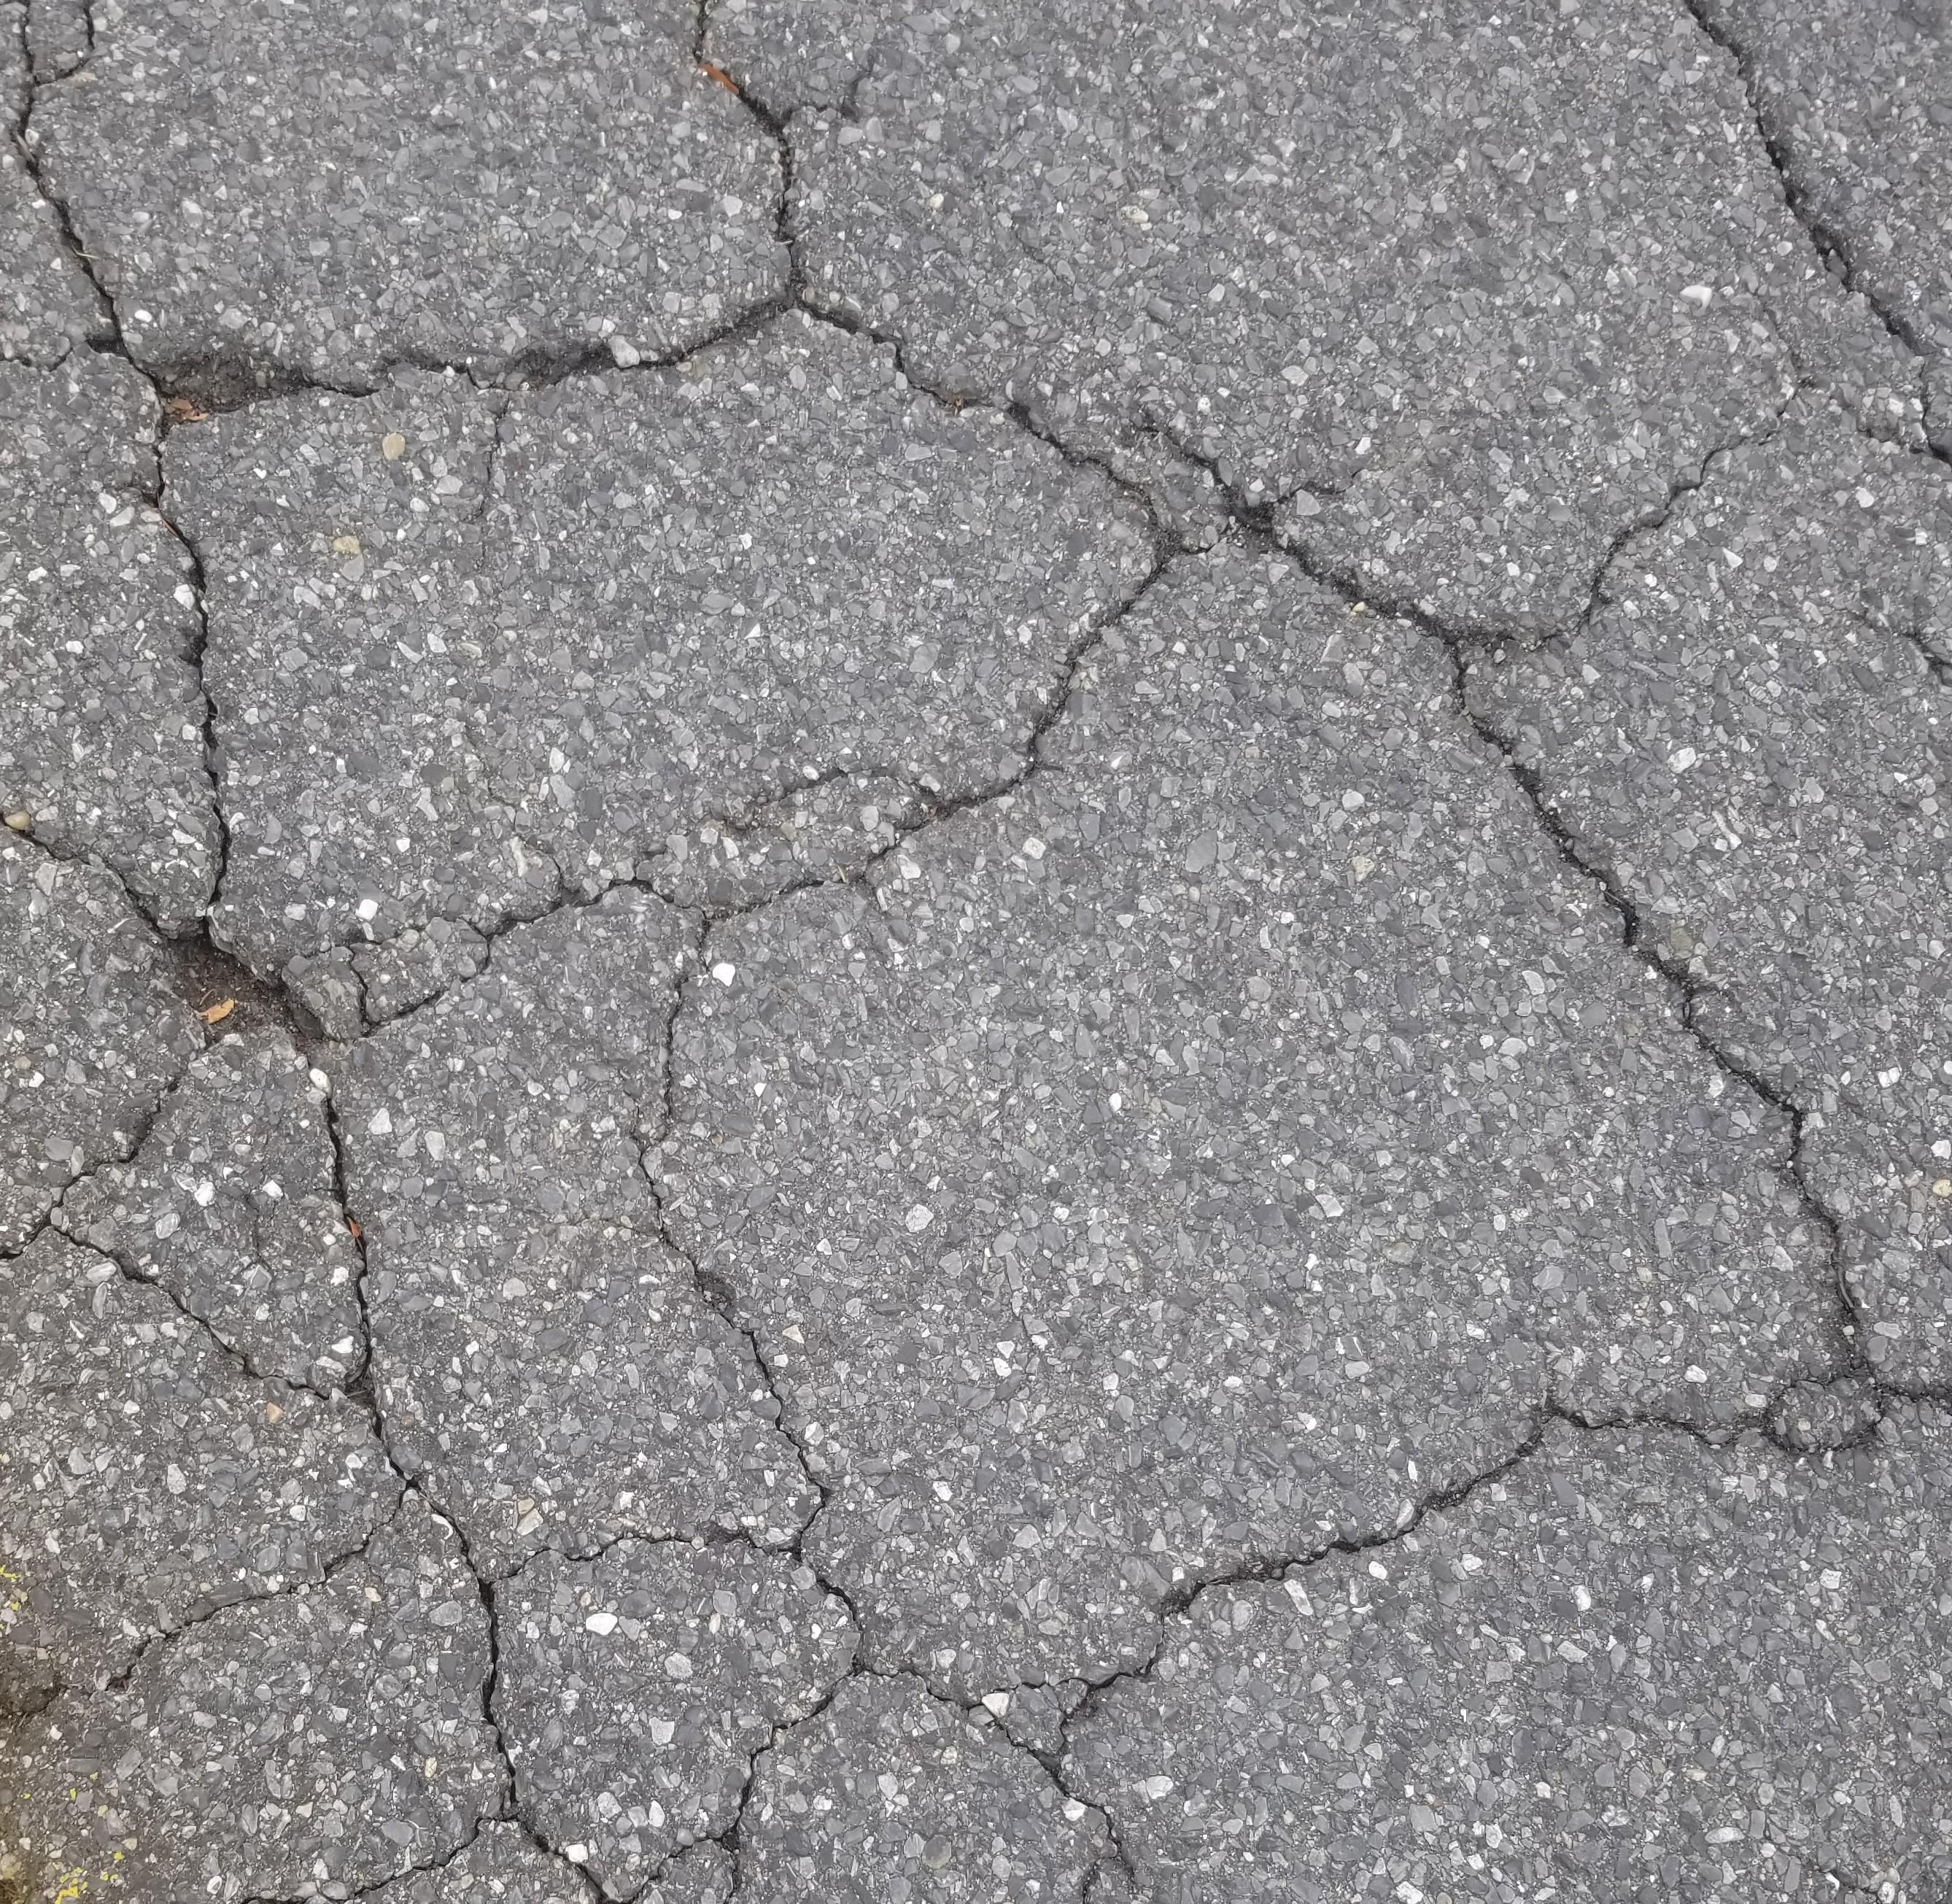alligator-crack: (26, 73, 1915, 1901)
